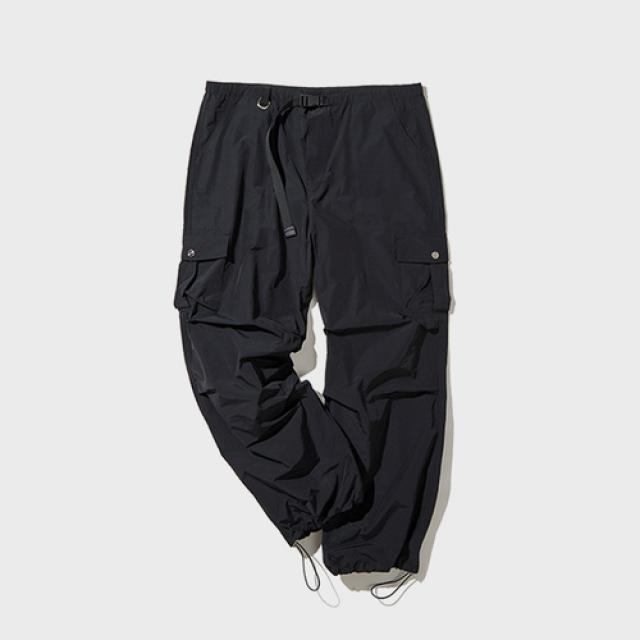dress: (187, 73, 451, 593)
